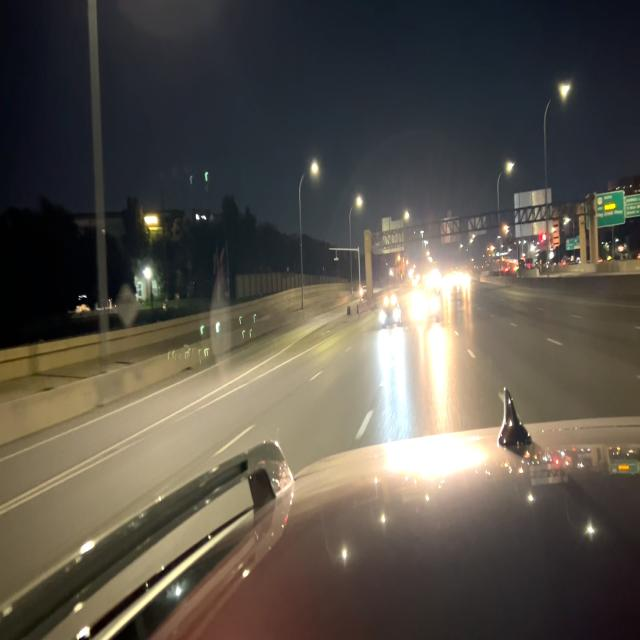back-of-sign: (513, 189, 554, 238), (381, 214, 404, 257), (440, 208, 461, 245), (467, 213, 489, 238)
